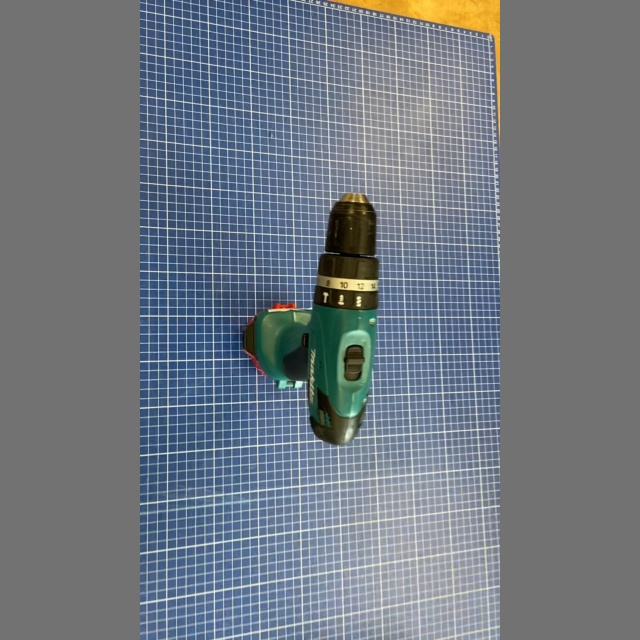drill: (235, 188, 384, 451)
